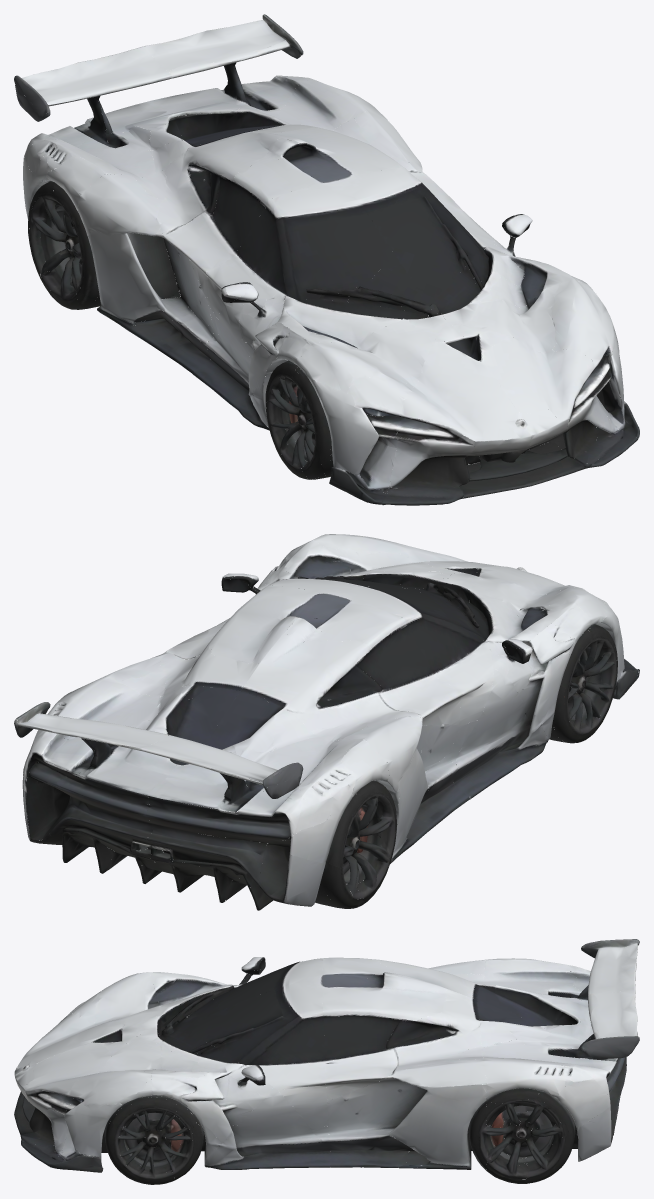
Rendered from hyper.glb.
The picture shows the model from 3 angles, top to bottom: view 1: azimuth 30°, elevation 25°; view 2: azimuth 150°, elevation 25°; view 3: azimuth 270°, elevation 25°; orthographic projection. The views are drawn at different scales.
Visible parts, largest first — view 1: body, wheel_RR, wheel_FR; view 2: body, wheel_RR, wheel_FR; view 3: body, wheel_RL, wheel_FL.
Part boxes in pixels (x1,y1,x2,y2): body: [14, 14, 639, 505]; wheel_RR: [28, 181, 98, 309]; wheel_FR: [265, 363, 331, 479]; body: [14, 534, 639, 910]; wheel_RR: [320, 780, 397, 908]; wheel_FR: [554, 626, 617, 743]; body: [14, 939, 639, 1172]; wheel_RL: [469, 1088, 574, 1183]; wheel_FL: [105, 1097, 202, 1184].
Bounding box in the file's own units: 2.03 × 1.2 × 4.37.
Materials: 2 (2 with a texture image).
